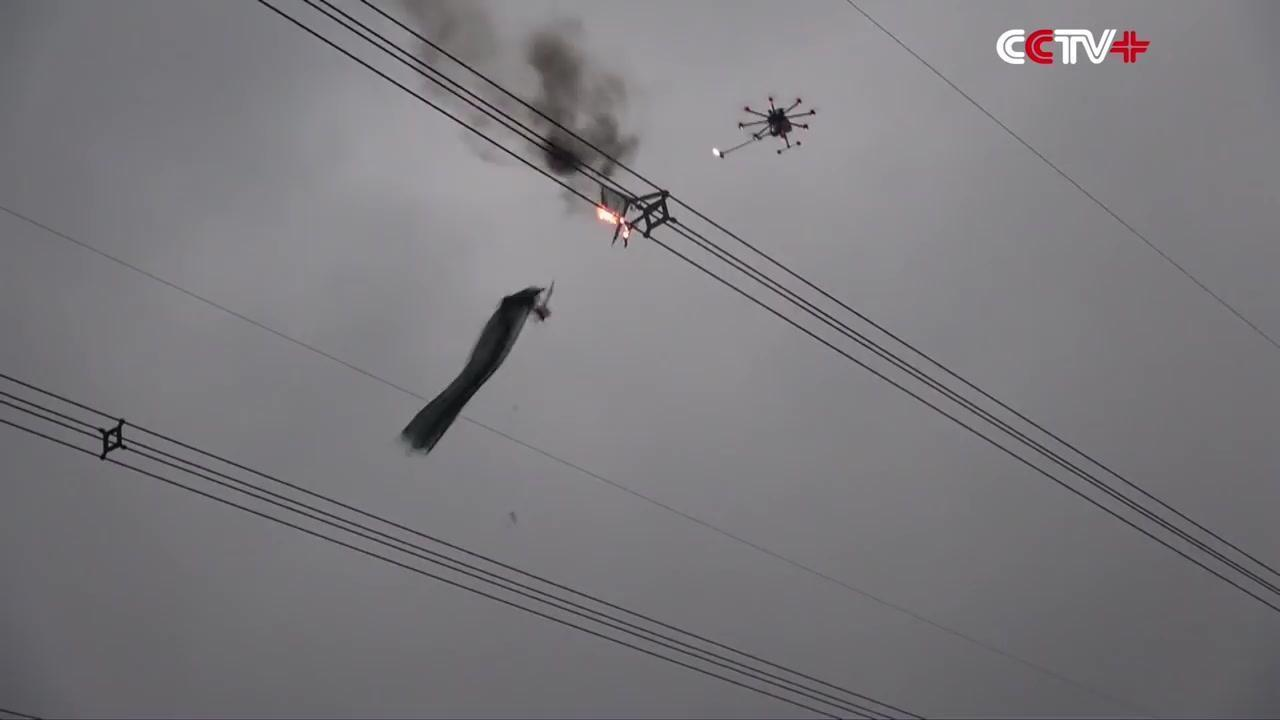UAV: (721, 97, 817, 160)
